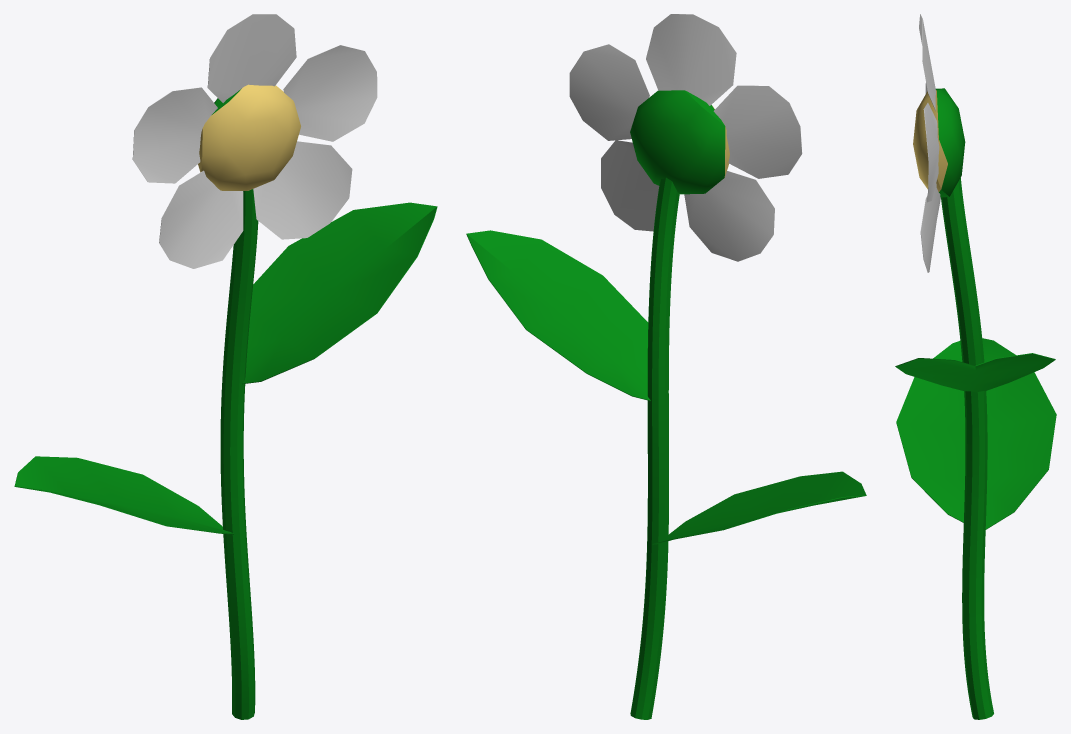
File: flower.dae
3 views of the same model, side by side, from view 1: azimuth 30°, elevation 25°; view 2: azimuth 150°, elevation 25°; view 3: azimuth 270°, elevation 25° (orthographic). The views are drawn at different scales.
Parts seen in each view (by area): view 1: Flower; view 2: Flower; view 3: Flower.
Part boxes in pixels (x1=…): Flower: x1=14, y1=14, x2=437, y2=719; Flower: x1=466, y1=14, x2=866, y2=719; Flower: x1=895, y1=14, x2=1056, y2=719.
Size of the model in its own units: 0.5992 by 0.2092 by 0.9851.
